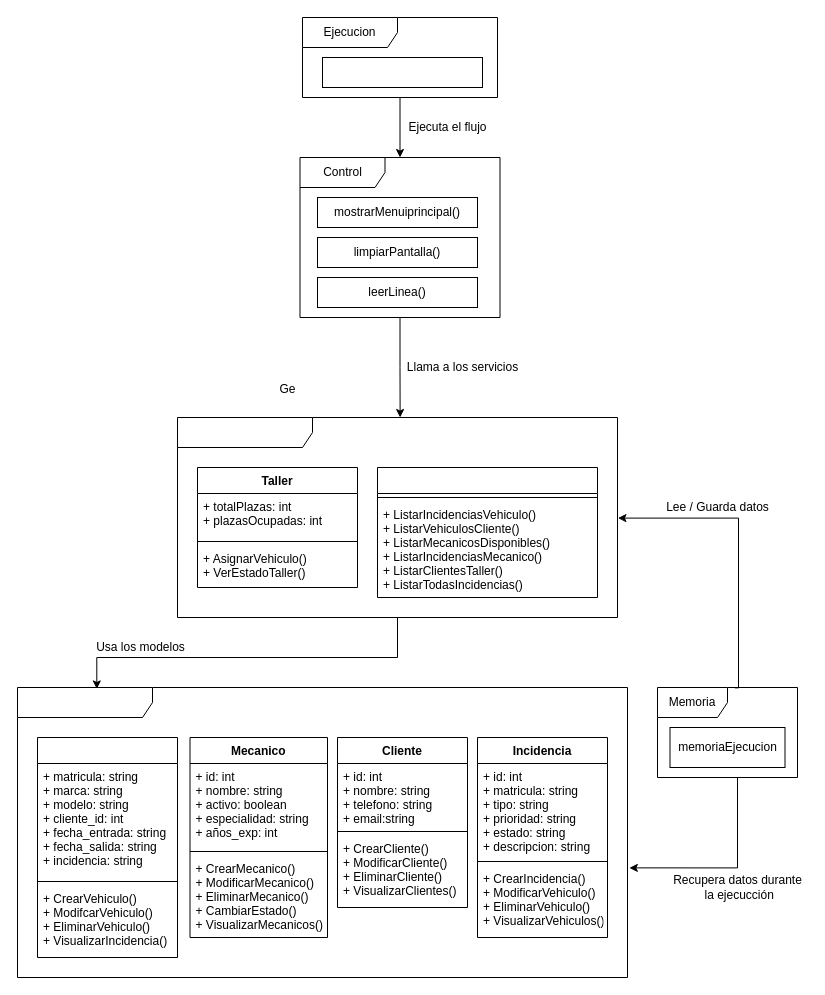
This 825x995 diagram has some shape labels left out. Here are the shapes that lost their labels. From the top down, the box of each, then its label:
(322, 56, 482, 88): main()
(176, 416, 618, 618): Servicios
(376, 466, 598, 598): Consultas
(36, 736, 178, 958): Vehículo
(16, 686, 628, 978): Datos
